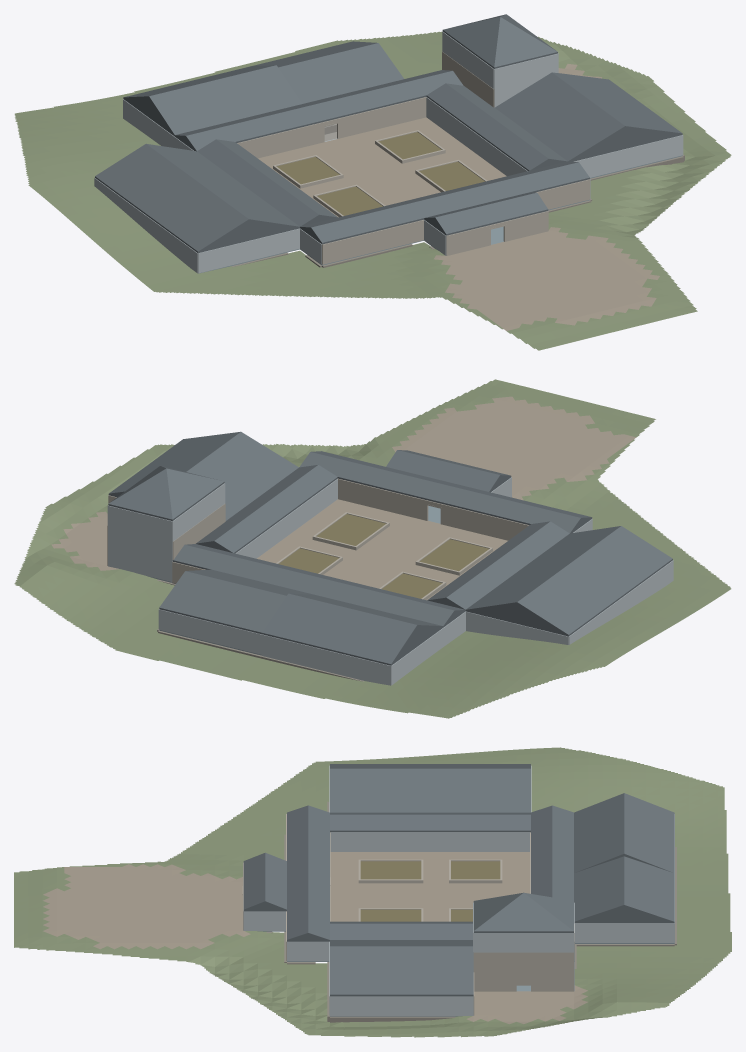
The model's file is monastery-with-refuges.glb.
3 views of the same model, one above another, from view 1: azimuth 30°, elevation 25°; view 2: azimuth 150°, elevation 25°; view 3: azimuth 270°, elevation 25° (orthographic). The views are drawn at different scales.
Visible parts, largest first — view 1: WLD-10 saved ground, dormitory roof west, archive roof south, refectory roof west, south-cloister roof south, north-cloister roof south, vestry roof south, dormitory roof east, east-cloister roof west, west-cloister roof west, refectory roof east, gatehouse roof south (+29 smaller); view 2: WLD-10 saved ground, dormitory roof west, archive roof north, north-cloister roof north, south-cloister roof north, vestry roof north, refectory roof west, dormitory roof east, east-cloister roof west, west-cloister roof west, Wall archive N, Wall tower-base N (+28 smaller); view 3: WLD-10 saved ground, dormitory roof east, refectory roof east, Wall west E, west-cloister roof east, archive roof north, archive roof south, Wall refectory E, south-cloister roof north, south-cloister roof south, vestry roof south, vestry roof north (+23 smaller).
Part boxes in pixels (box(x1,y1,x2,y2)): WLD-10 saved ground: box(14, 31, 731, 350); dormitory roof west: box(95, 144, 248, 252); archive roof south: box(149, 65, 301, 136); refectory roof west: box(495, 72, 625, 161); south-cloister roof south: box(311, 162, 589, 244); north-cloister roof south: box(186, 71, 463, 151); vestry roof south: box(278, 43, 403, 103); dormitory roof east: box(146, 143, 299, 227); east-cloister roof west: box(426, 83, 548, 170); west-cloister roof west: box(197, 139, 319, 226); refectory roof east: box(552, 72, 682, 134); gatehouse roof south: box(435, 192, 548, 235); WLD-10 saved ground: box(14, 379, 731, 718); dormitory roof west: box(517, 526, 672, 636); archive roof north: box(262, 593, 417, 665); north-cloister roof north: box(172, 544, 454, 626); south-cloister roof north: box(299, 452, 580, 533); vestry roof north: box(159, 571, 286, 633); refectory roof west: box(186, 432, 298, 520); dormitory roof east: box(466, 526, 620, 610); east-cloister roof west: box(214, 465, 337, 553); west-cloister roof west: box(446, 521, 569, 609); Wall archive N: box(262, 634, 391, 685); Wall tower-base N: box(108, 526, 172, 581); WLD-10 saved ground: box(14, 747, 731, 1037); dormitory roof east: box(330, 768, 530, 812); refectory roof east: box(330, 946, 473, 995); Wall west E: box(330, 832, 529, 851); west-cloister roof east: box(330, 814, 530, 832); archive roof north: box(624, 793, 674, 872); archive roof south: box(574, 793, 624, 872); Wall refectory E: box(330, 996, 473, 1015); south-cloister roof north: box(308, 805, 329, 941); south-cloister roof south: box(287, 805, 308, 941); vestry roof south: box(574, 856, 624, 922); vestry roof north: box(624, 856, 674, 922).
Bounding box in the file's own units: 92 × 16 × 100.
